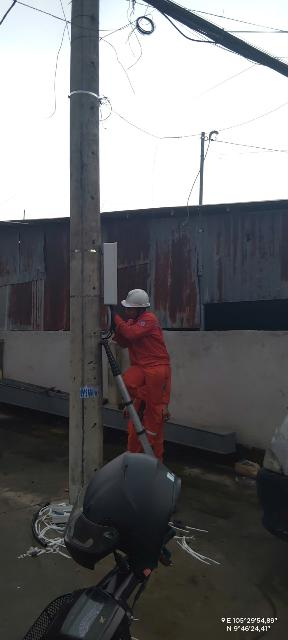gloves: (106, 308, 119, 318)
helmet: (118, 288, 154, 309)
